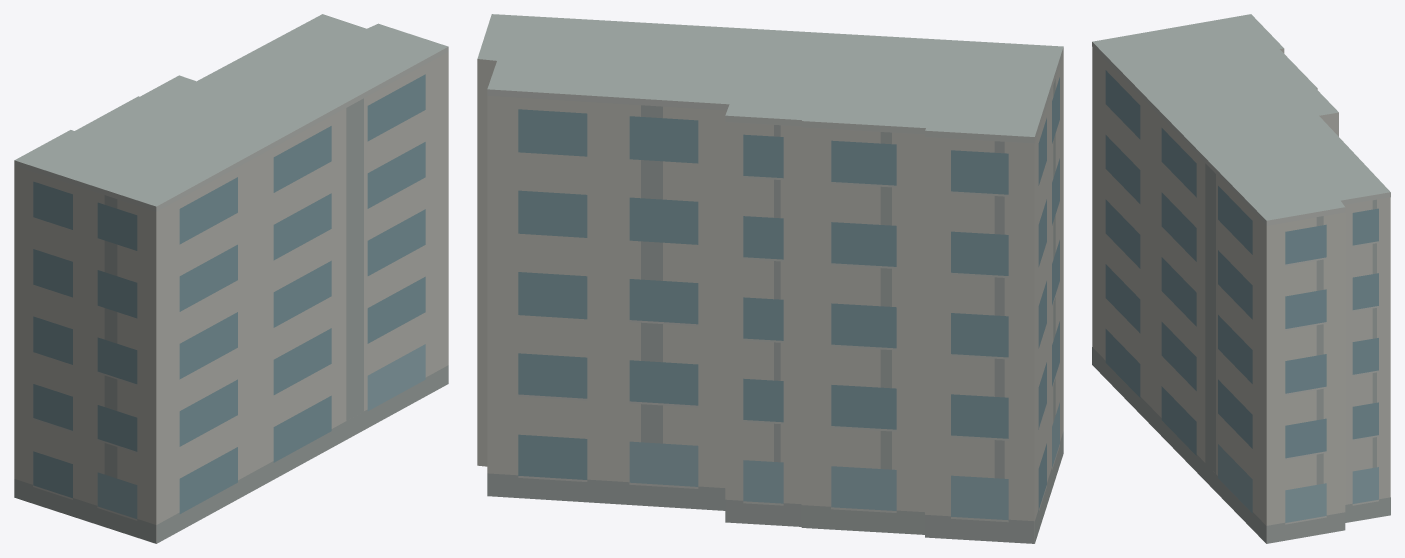
The model's file is survey-upis-32616699.glb.
3 renders of one model, left to right at view 1: azimuth 30°, elevation 25°; view 2: azimuth 150°, elevation 25°; view 3: azimuth 270°, elevation 25°, orthographic. The views are drawn at different scales.
Parts seen in each view (by area): view 1: survey-upis-32616699.tmp; view 2: survey-upis-32616699.tmp; view 3: survey-upis-32616699.tmp.
Boxes of the visible parts, <box> form: survey-upis-32616699.tmp: <box>14,14,448,543</box>; survey-upis-32616699.tmp: <box>477,14,1063,543</box>; survey-upis-32616699.tmp: <box>1092,14,1390,543</box>.
Size of the model in its own units: 21.28 by 15.5 by 12.99.
